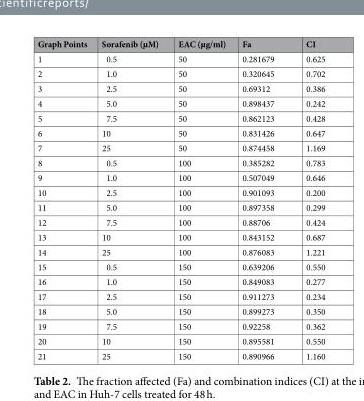table: (36, 36, 324, 361)
table column: (93, 36, 167, 361), (167, 36, 233, 361), (36, 36, 93, 361), (233, 36, 289, 361), (289, 36, 324, 361)
table column header: (36, 36, 324, 51)
table row: (36, 36, 324, 51), (36, 65, 324, 80), (36, 80, 324, 95), (36, 95, 324, 110), (36, 110, 324, 125), (36, 125, 324, 140), (36, 154, 324, 169), (36, 169, 324, 184), (36, 184, 324, 199), (36, 199, 324, 214), (36, 214, 324, 229), (36, 229, 324, 244), (36, 244, 324, 259), (36, 273, 324, 288), (36, 288, 324, 303), (36, 303, 324, 318), (36, 318, 324, 333), (36, 333, 324, 348), (36, 51, 324, 65), (36, 140, 324, 154), (36, 259, 324, 273), (36, 348, 324, 361)
